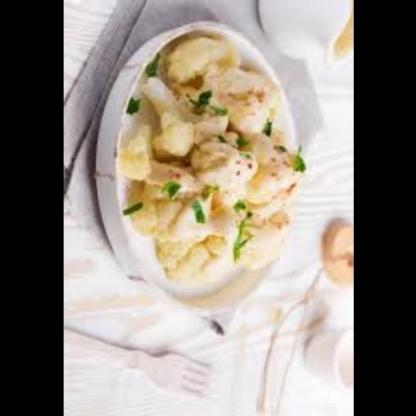cayliflower: (105, 12, 312, 295)
